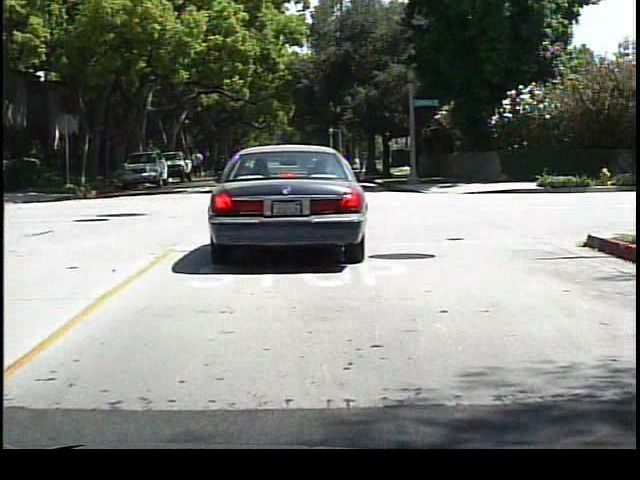car: (192, 141, 370, 270), (118, 148, 166, 188), (165, 148, 188, 180)
